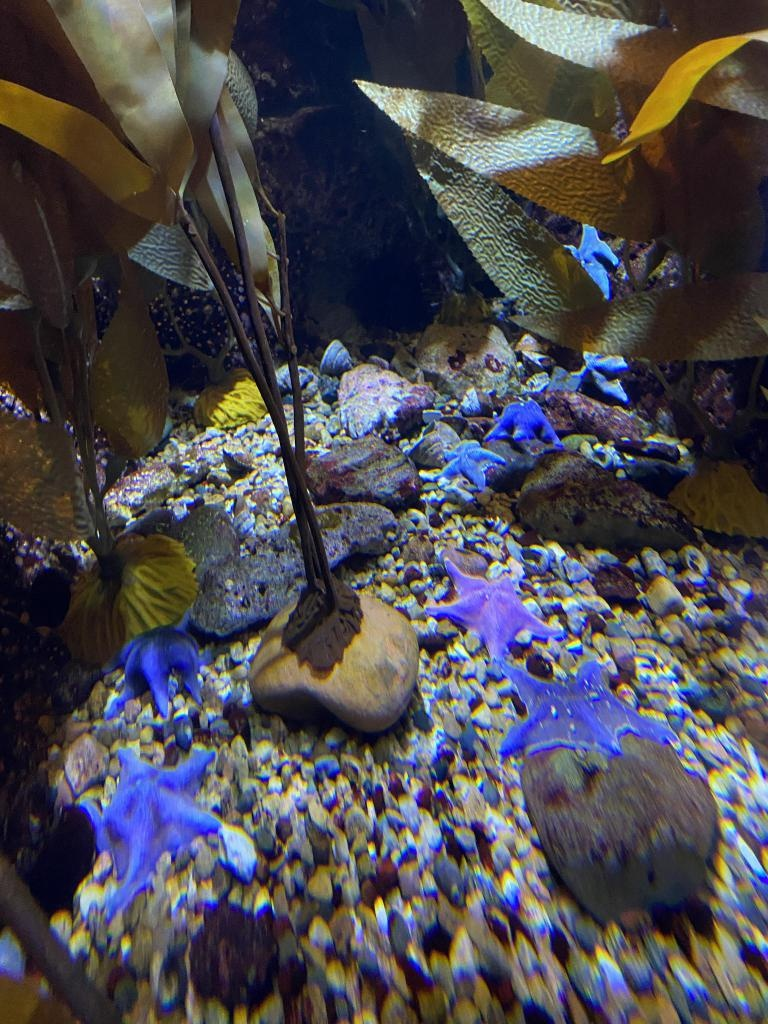starfish: (76, 743, 222, 917), (484, 654, 680, 760), (427, 556, 568, 656), (94, 615, 212, 729), (562, 218, 622, 304), (486, 398, 564, 450), (568, 348, 632, 406), (437, 435, 503, 491)
